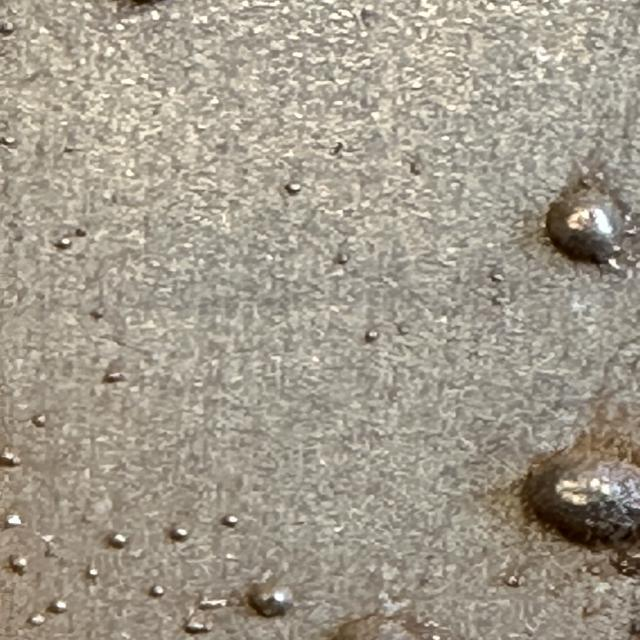Spatters: (523, 452, 640, 548), (547, 190, 623, 264), (248, 589, 292, 618), (197, 598, 245, 610), (332, 244, 350, 265), (10, 556, 27, 575), (170, 526, 190, 542), (0, 20, 17, 38), (102, 372, 127, 384), (0, 451, 20, 466), (108, 534, 128, 549), (185, 622, 210, 634), (47, 600, 68, 614), (27, 612, 47, 626), (88, 306, 107, 320), (0, 135, 18, 149), (578, 176, 597, 189), (6, 514, 23, 528), (285, 182, 302, 195), (148, 585, 165, 598), (505, 575, 522, 588), (32, 414, 47, 428), (55, 238, 72, 250), (365, 329, 380, 342), (223, 516, 239, 528), (492, 296, 510, 305), (87, 568, 100, 580), (490, 274, 505, 282), (75, 229, 87, 238)
